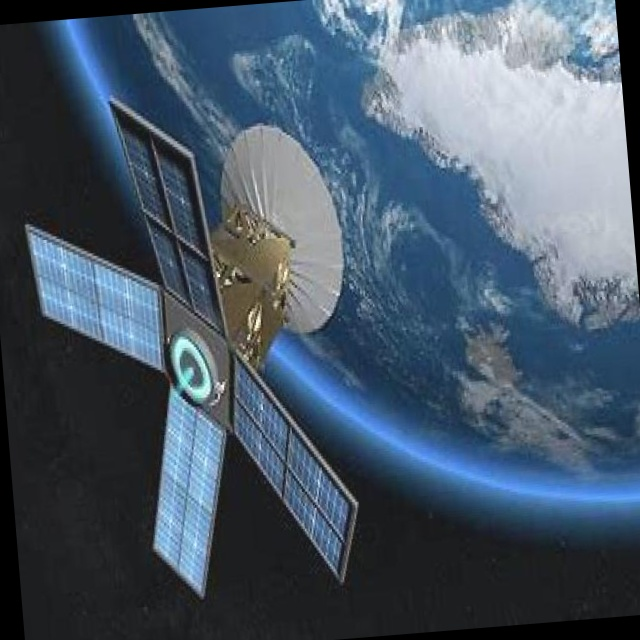medium_debris: (5, 79, 396, 616)
